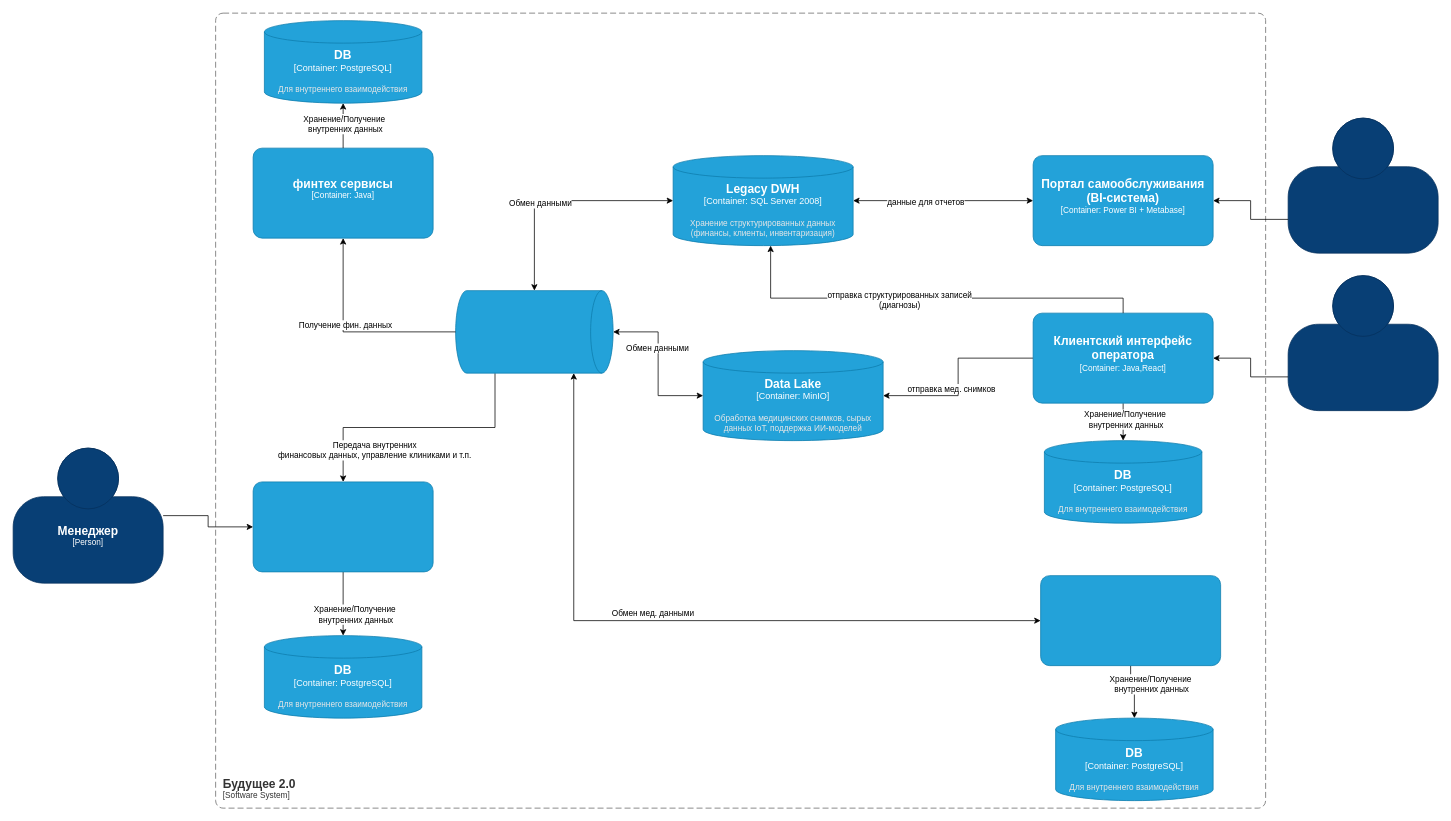
Some shapes in this 1451 by 821 pixel diagram are drawn without their labels. The shapes that lost their labels are listed below. From the top down, each one's centre as x and y in pixels, then its label:
the point at 1362,185: Аналитик [Person]
the point at 534,331: Интеграционная шина [Container: Apache Kafka]
the point at 1362,343: Оператор [Person]
the point at 342,526: Внутренние сервисы [Container: Java,React]
the point at 1130,620: ИИ сервисы [Container: Python]
